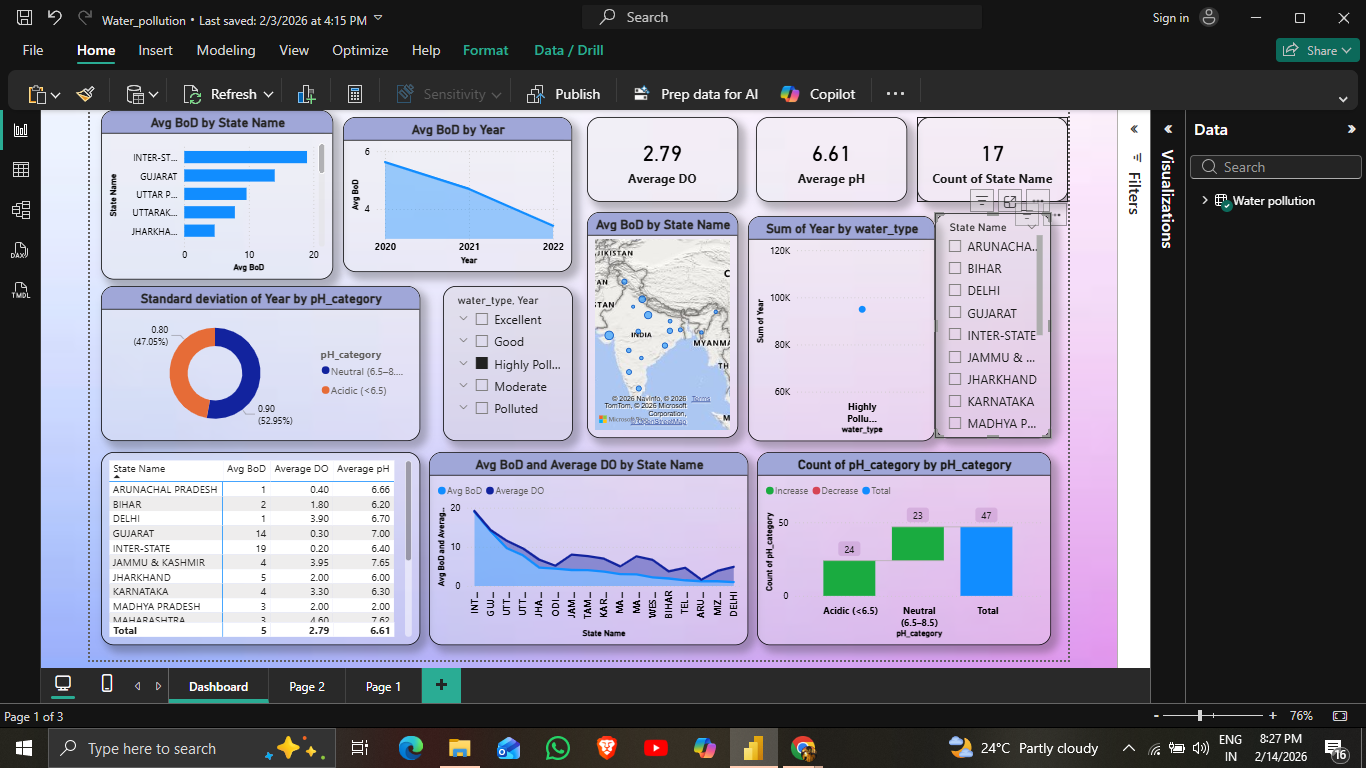

This screenshot's page, from the dashboard's own definition file:
{"tool":"powerbi","page":{"name":"Dashboard","canvas":[1280,720],"ordinal":0},"visuals":[{"type":"clusteredBarChart","fields":{"Category":["Water pollution.State Name"],"Y":["Water pollution.Avg BoD"]},"box":[14.7,0,304.2,221.9],"z":0},{"type":"areaChart","fields":{"Category":["Water pollution.Year"],"Y":["Water pollution.Avg BoD"]},"box":[331.2,8.8,300,202.5],"z":1000},{"type":"card","fields":{"Values":["Water pollution.Average DO"]},"box":[650,8.8,197.5,111.2],"z":2000},{"type":"card","fields":{"Values":["Water pollution.Average pH"]},"box":[872.5,8.8,197.5,111.2],"z":3000},{"type":"donutChart","fields":{"Y":["Sum(Water pollution.Year)"],"Category":["Water pollution.pH_category"]},"box":[15,230,417.5,202.5],"z":4000},{"type":"slicer","fields":{"Values":["Water pollution.water_type","Water pollution.Year"]},"box":[462.5,230,170,202.5],"z":5000},{"type":"map","fields":{"Size":["Water pollution.Avg BoD"],"Category":["Water pollution.State Name"]},"box":[650,133.8,197.5,296.2],"z":6000},{"type":"lineChart","fields":{"Category":["Water pollution.water_type"],"Y":["Sum(Water pollution.Year)"]},"box":[861.7,138.3,245,295],"z":7000},{"type":"slicer","fields":{"Values":["Water pollution.State Name"]},"box":[1106.7,135,151.7,295],"z":8000},{"type":"card","fields":{"Values":["Count(Water pollution.State Name)"]},"box":[1082.5,8.8,197.5,111.2],"z":9000},{"type":"pivotTable","fields":{"Rows":["Water pollution.State Name"],"Values":["Water pollution.Avg BoD","Water pollution.Average DO","Water pollution.Average pH"]},"box":[15,448.3,418.3,253.3],"z":10000},{"type":"stackedAreaChart","fields":{"Category":["Water pollution.State Name"],"Y":["Water pollution.Avg BoD","Water pollution.Average DO"]},"box":[443.3,448.3,418.3,253.3],"z":11000},{"type":"waterfallChart","fields":{"Category":["Water pollution.pH_category"],"Y":["CountNonNull(Water pollution.pH_category)"]},"box":[873.3,448.3,385,253.3],"z":12000}]}

Visuals, with their boxes on the page's 1280x720 design canvas (x1, y1, x2, y2). These are canvas units, not pixel positions in the 1366x768 screenshot, which may show the page scaled, cropped or inside an application window:
clusteredBarChart - Water pollution.State Name x Water pollution.Avg BoD: <bbox>15, 0, 319, 222</bbox>
areaChart - Water pollution.Year x Water pollution.Avg BoD: <bbox>331, 9, 631, 211</bbox>
card - Water pollution.Average DO: <bbox>650, 9, 848, 120</bbox>
card - Water pollution.Average pH: <bbox>872, 9, 1070, 120</bbox>
donutChart - Sum(Water pollution.Year) x Water pollution.pH_category: <bbox>15, 230, 432, 432</bbox>
slicer - Water pollution.water_type x Water pollution.Year: <bbox>462, 230, 632, 432</bbox>
map - Water pollution.Avg BoD x Water pollution.State Name: <bbox>650, 134, 848, 430</bbox>
lineChart - Water pollution.water_type x Sum(Water pollution.Year): <bbox>862, 138, 1107, 433</bbox>
slicer - Water pollution.State Name: <bbox>1107, 135, 1258, 430</bbox>
card - Count(Water pollution.State Name): <bbox>1082, 9, 1280, 120</bbox>
pivotTable - Water pollution.State Name x Water pollution.Avg BoD: <bbox>15, 448, 433, 702</bbox>
stackedAreaChart - Water pollution.State Name x Water pollution.Avg BoD: <bbox>443, 448, 862, 702</bbox>
waterfallChart - Water pollution.pH_category x CountNonNull(Water pollution.pH_category): <bbox>873, 448, 1258, 702</bbox>
